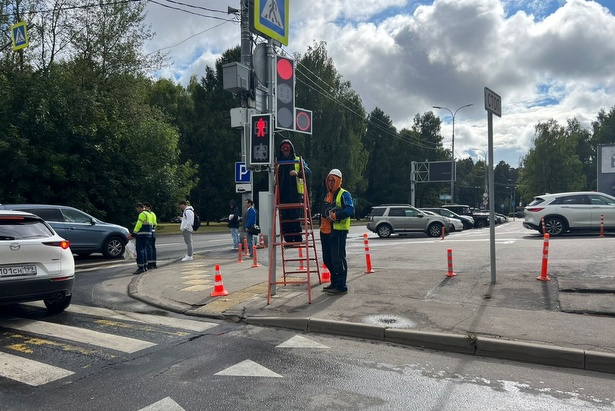tl: (275, 58, 314, 129), (248, 112, 274, 166)
